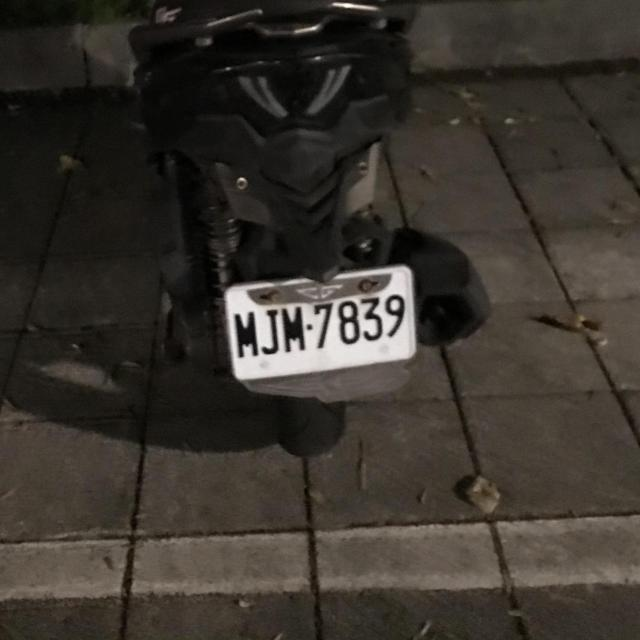W: (219, 255, 423, 390)
